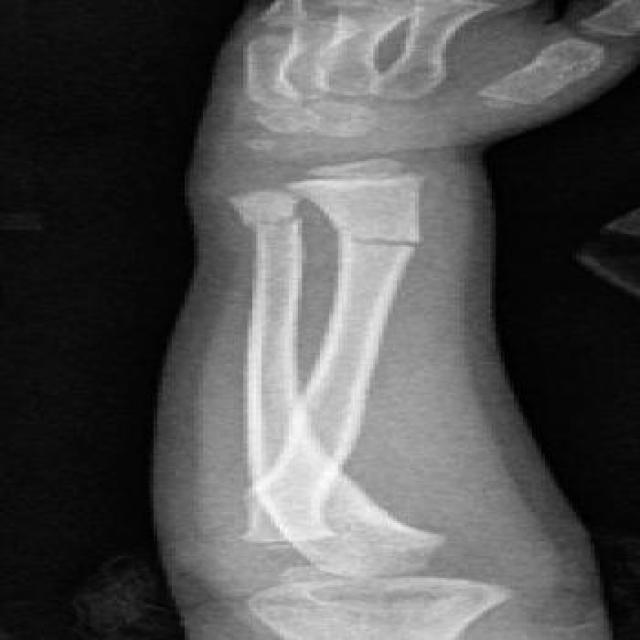Fracture: (329, 225, 452, 260), (228, 210, 326, 235)
